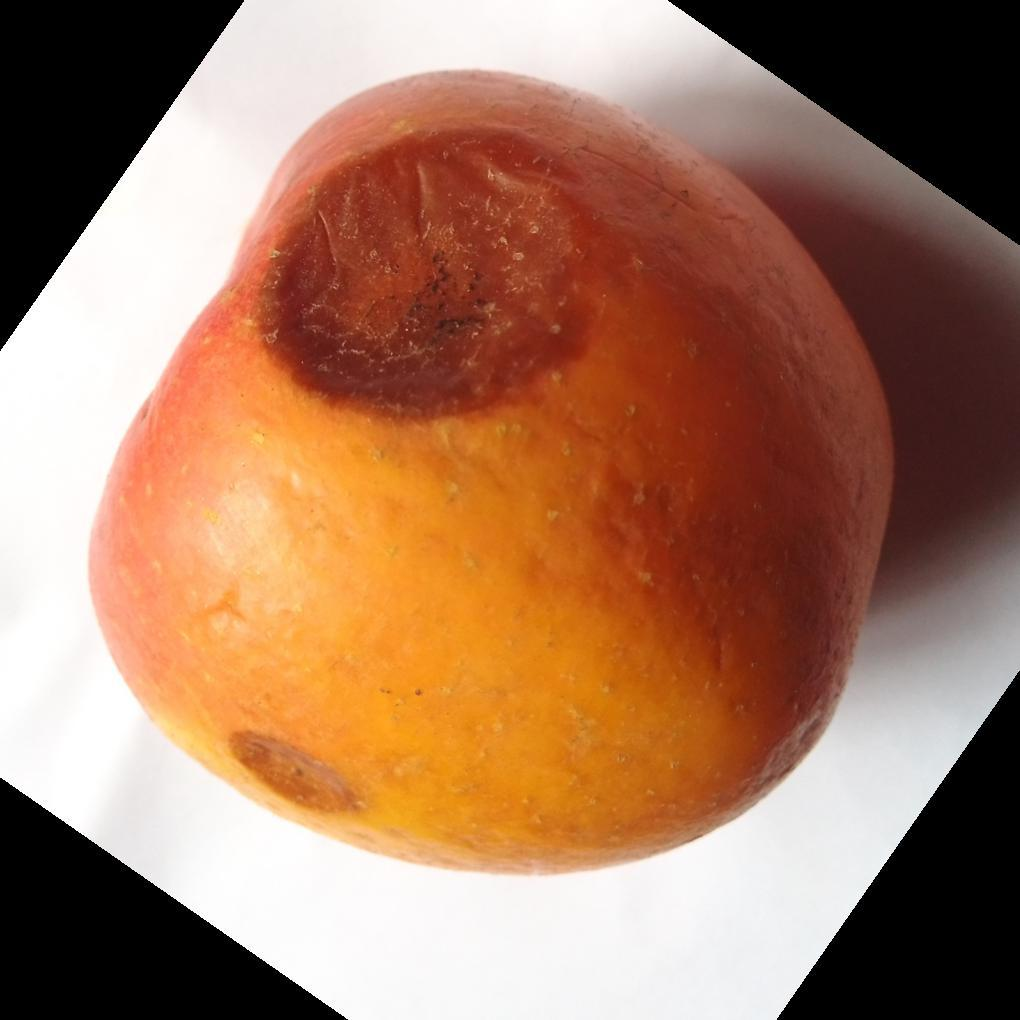FreshOrange: (82, 69, 897, 880)
